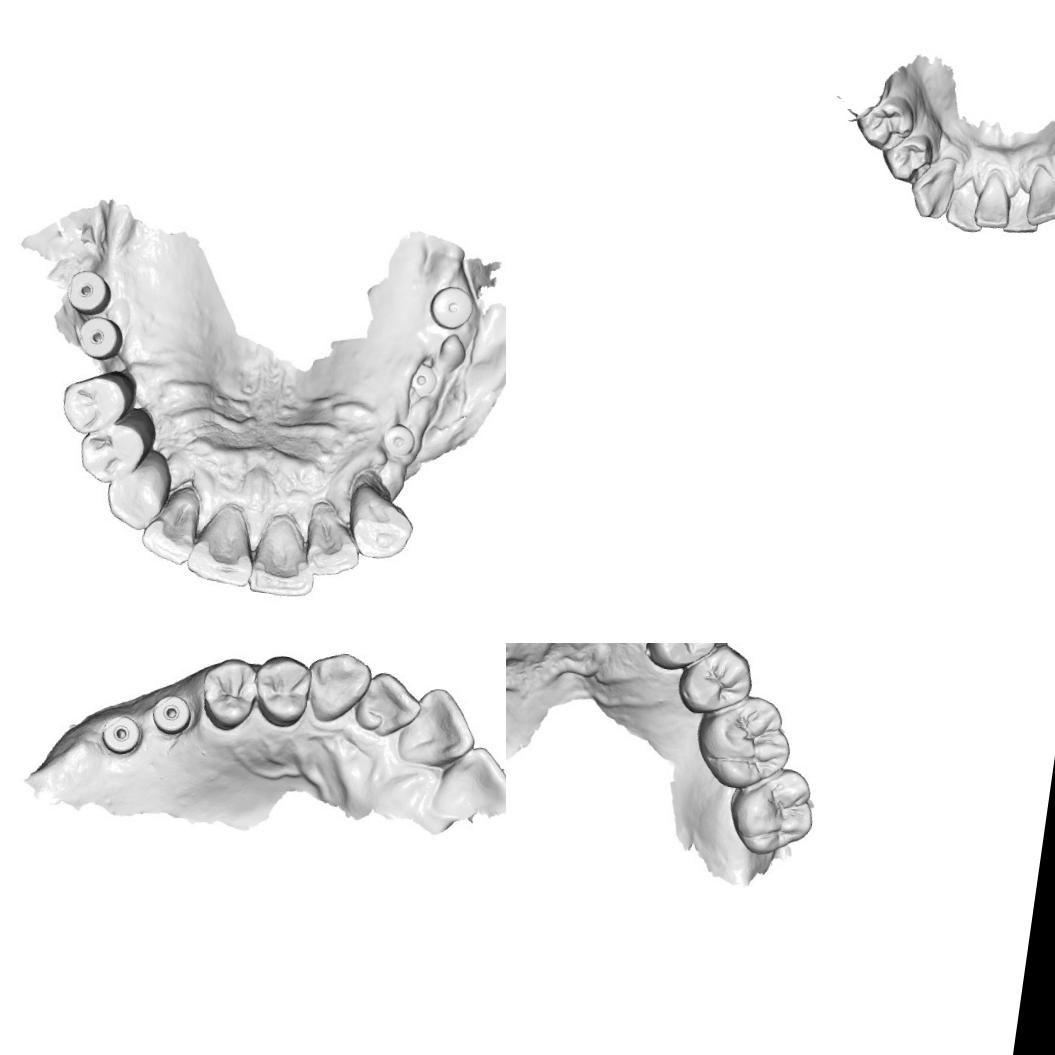canine: (106, 444, 178, 530), (303, 646, 375, 731), (345, 474, 417, 558), (906, 156, 956, 221)
implant: (148, 688, 201, 742), (96, 706, 148, 761), (426, 283, 482, 334), (376, 414, 422, 466), (62, 269, 114, 312), (78, 312, 124, 360), (405, 358, 438, 400)
incisor: (393, 681, 481, 773), (423, 739, 506, 828), (250, 500, 323, 598), (188, 497, 262, 584), (136, 480, 210, 566), (301, 494, 364, 582), (353, 668, 426, 739), (944, 185, 985, 235), (972, 187, 1013, 231), (1002, 194, 1042, 238), (1024, 175, 1055, 229)
molar: (702, 695, 790, 792), (732, 770, 816, 856)
premolar: (669, 643, 757, 721), (195, 652, 263, 737), (249, 650, 318, 731), (62, 370, 134, 442), (851, 89, 919, 156), (78, 418, 144, 483), (878, 130, 936, 185), (652, 643, 721, 674)
